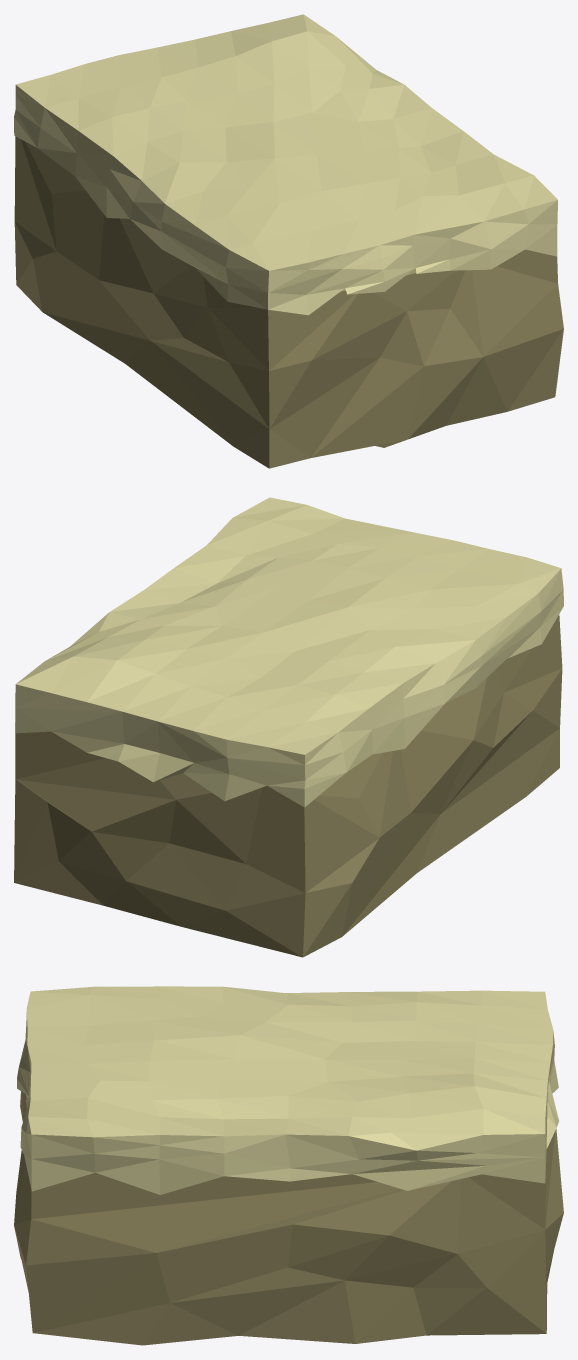
The model's file is sand_island.fbx.
3 renders of one model, top to bottom at view 1: azimuth 30°, elevation 25°; view 2: azimuth 150°, elevation 25°; view 3: azimuth 270°, elevation 25°, orthographic.
Parts seen in each view (by area): view 1: grass, dirt; view 2: grass, dirt; view 3: grass, dirt.
Boxes of the visible parts, bbox=[...] form: grass: bbox=[14, 14, 557, 315]; dirt: bbox=[14, 136, 563, 468]; grass: bbox=[15, 497, 563, 807]; dirt: bbox=[14, 614, 562, 957]; grass: bbox=[17, 986, 558, 1194]; dirt: bbox=[14, 1091, 563, 1345].
Bounding box in the file's own units: 896 × 670 × 1309.
